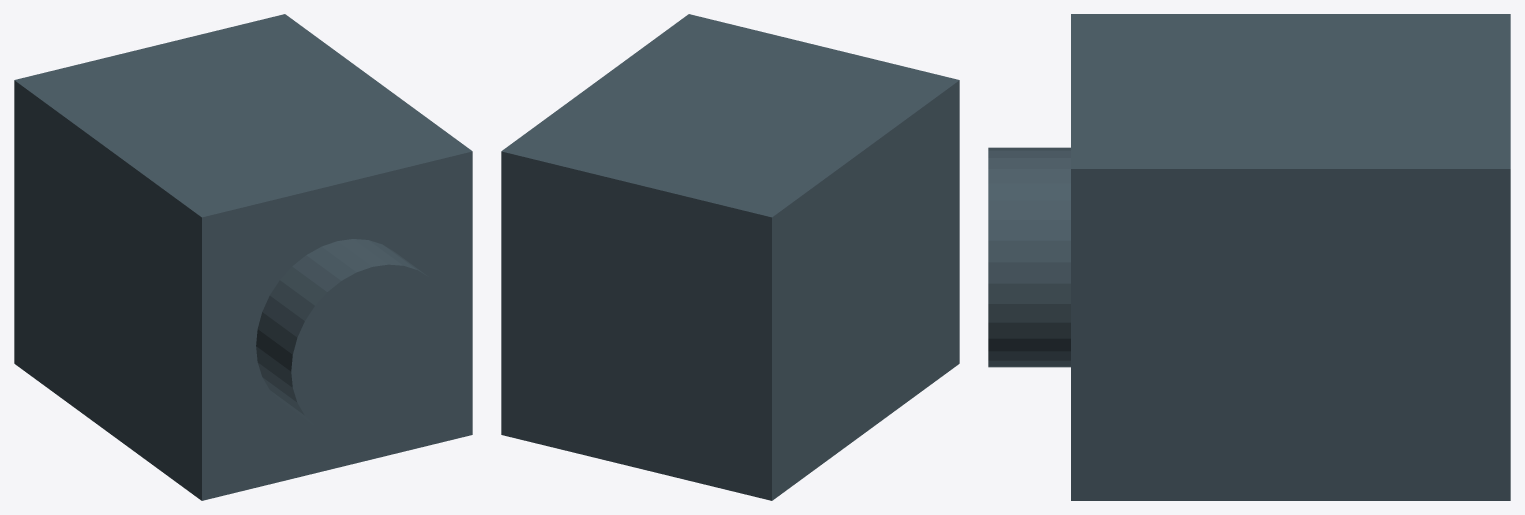
The model's file is brick_0.glb.
3 renders of one model, left to right at view 1: azimuth 30°, elevation 25°; view 2: azimuth 150°, elevation 25°; view 3: azimuth 270°, elevation 25°, orthographic. The views are drawn at different scales.
Parts seen in each view (by area): view 1: world; view 2: world; view 3: world.
Boxes of the visible parts, x1=… form: world: x1=14, y1=14, x2=472, y2=500; world: x1=501, y1=14, x2=959, y2=500; world: x1=988, y1=14, x2=1510, y2=500.
Bounding box in the file's own units: 8 × 8 × 11.4.
